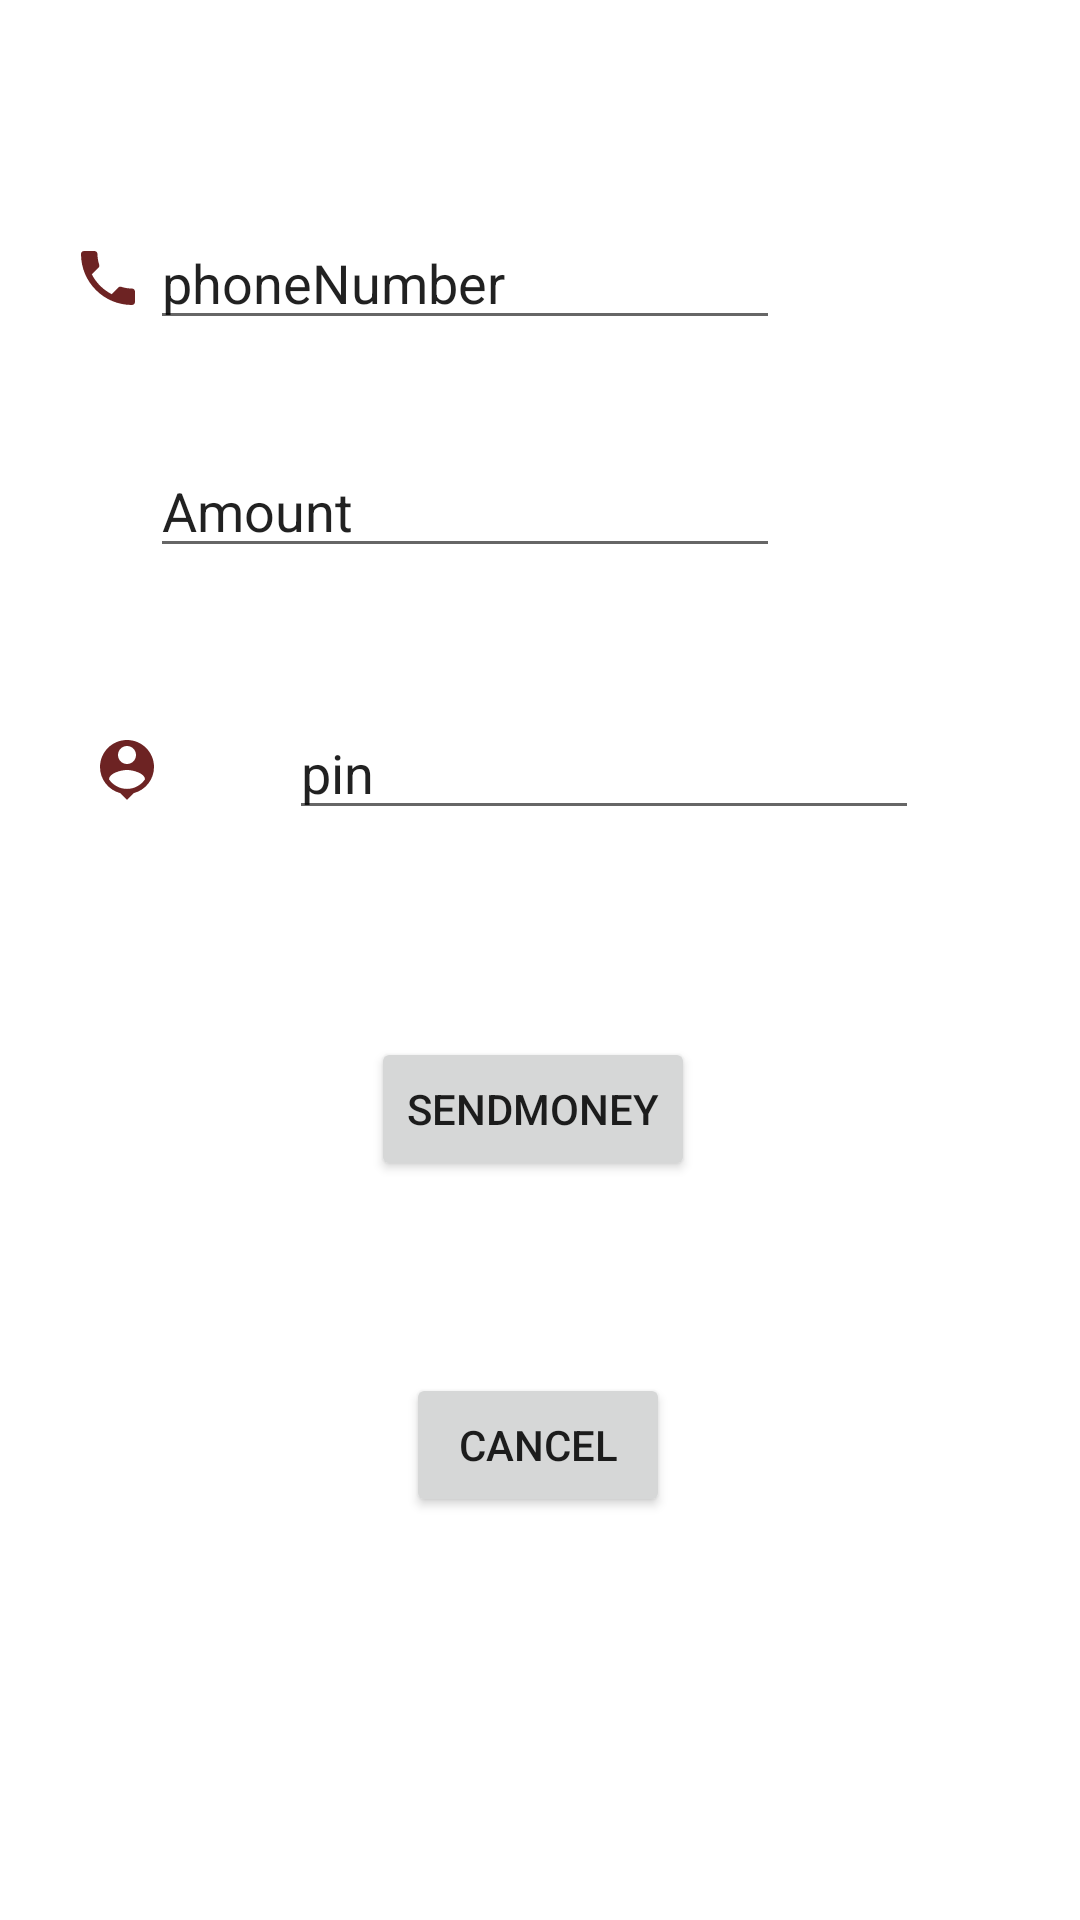

Named icons in this screenshot (1080px x 1920px) and their centers, [x,y]:
person pin: [127,770]
